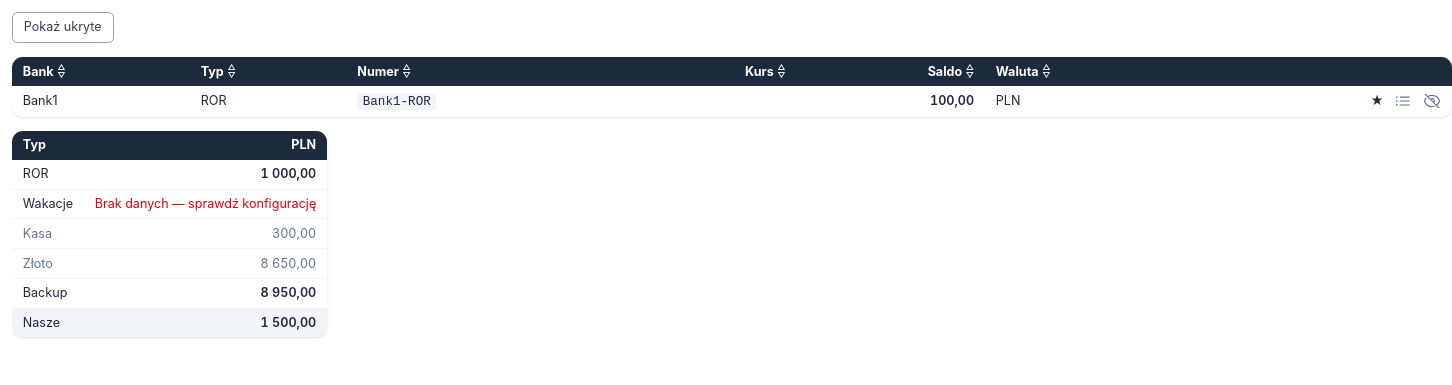
Scenario: SummaryPage › shows the hidden accounts on request, and hides them again
Later steps or results of the test are not shown.
What coordinates should you click on to do the following:
click the button "Pokaż ukryte"
I would click on:
 (63, 27)
Its box is [12,12,114,43].
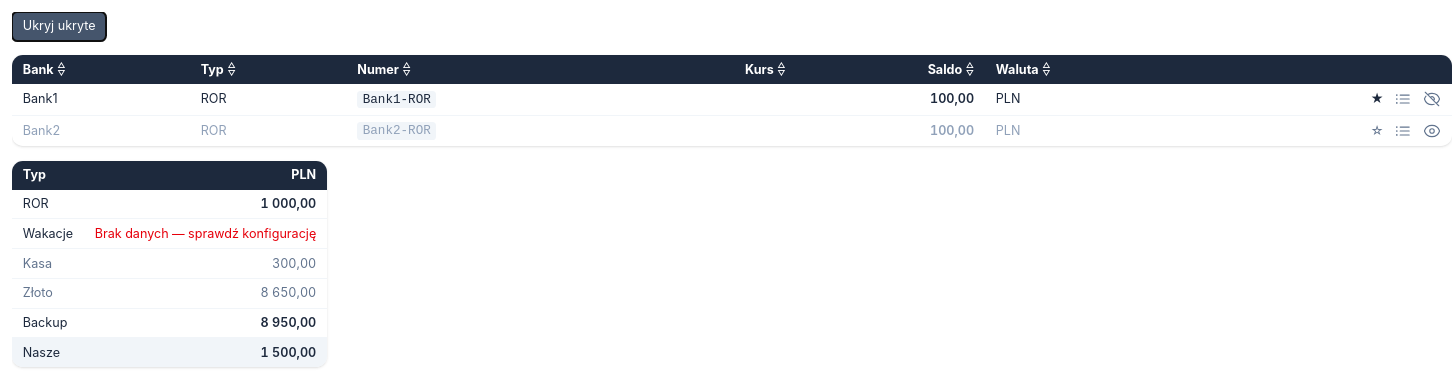
Result: the button named "Pokaż" is shown at [1423,122,1441,140]
